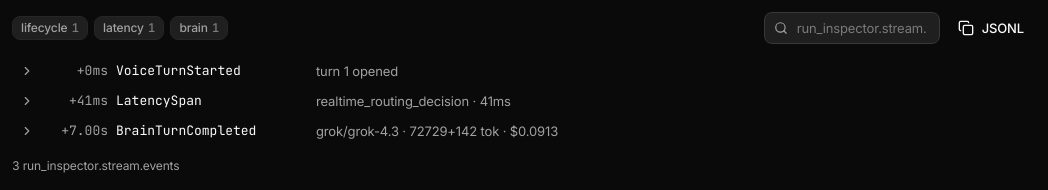
EventStream › filters by lane
Click the button with test id "lane-brain".
click(199, 28)  # box [170, 16, 228, 40]
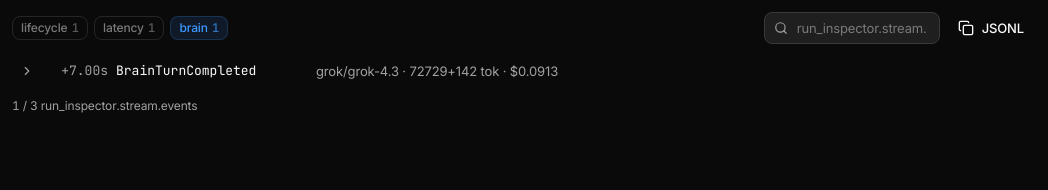
Expected: the text "BrainTurnCompleted" is shown, [116, 62, 256, 79]
Expected: the number of list items is 1, [12, 56, 1036, 86]
Expected: the text "VoiceTurnStarted" is gone
